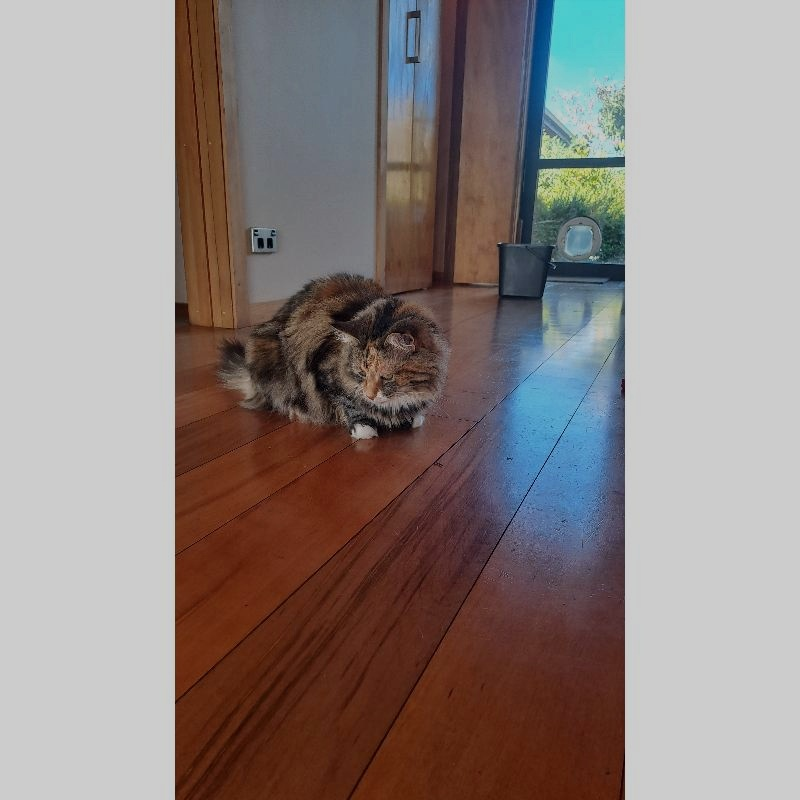red: (216, 270, 452, 442)
